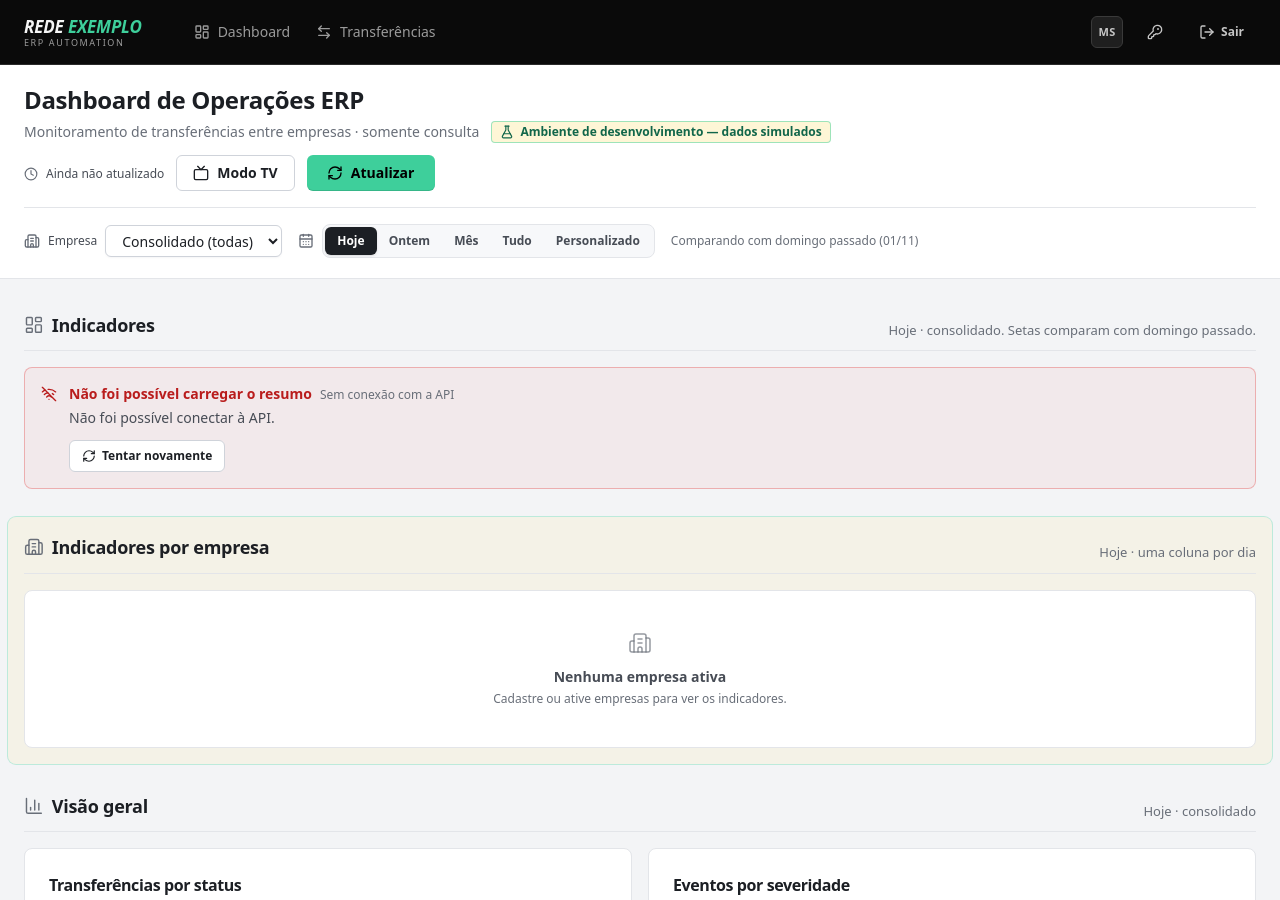
Test: DashboardPage — resumo operacional › mostra erro de rede claro e se recupera com Tentar novamente
Expected: the text "Não foi possível carregar o resumo" shows "Não foi possível conectar à API.", x1=69 y1=408 x2=275 y2=427
Click the button "Tentar novamente": (147, 456) x1=69 y1=440 x2=225 y2=472
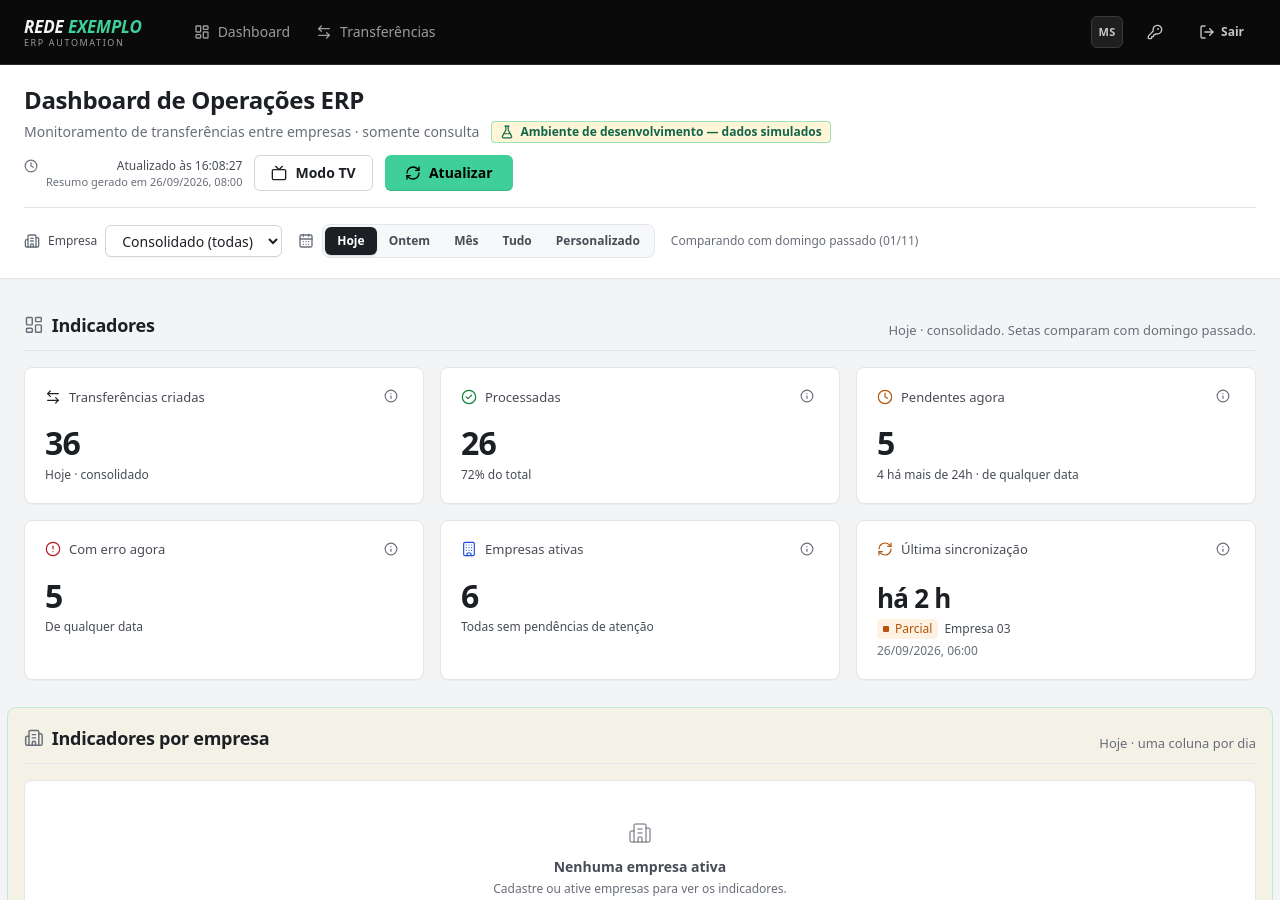
Expected: the text "36" is shown, x1=45 y1=421 x2=80 y2=464
